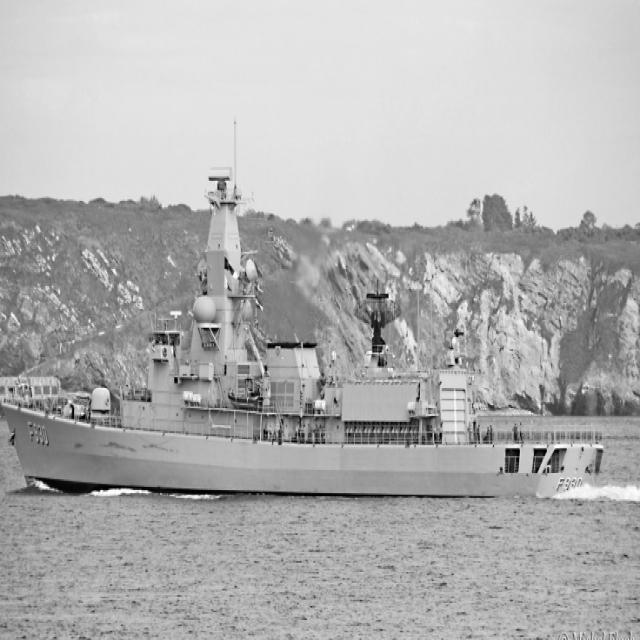Fragata: (1, 167, 609, 507)
